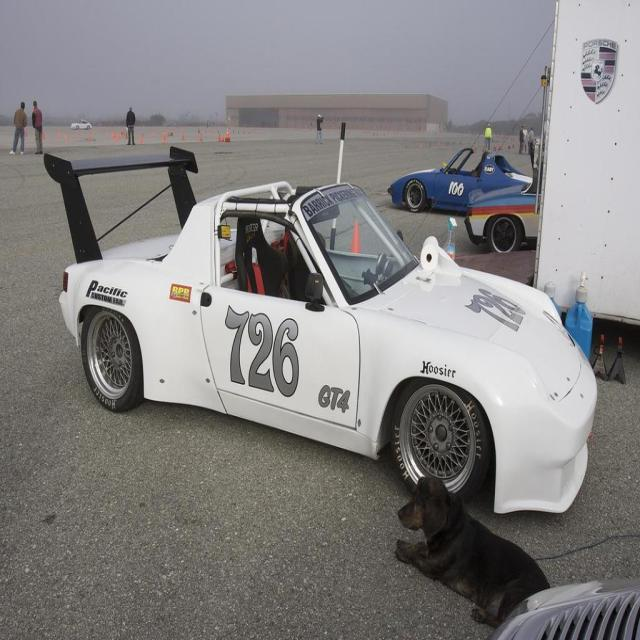car: (73, 168, 593, 517), (385, 145, 529, 214), (463, 166, 539, 252), (70, 115, 91, 129)
